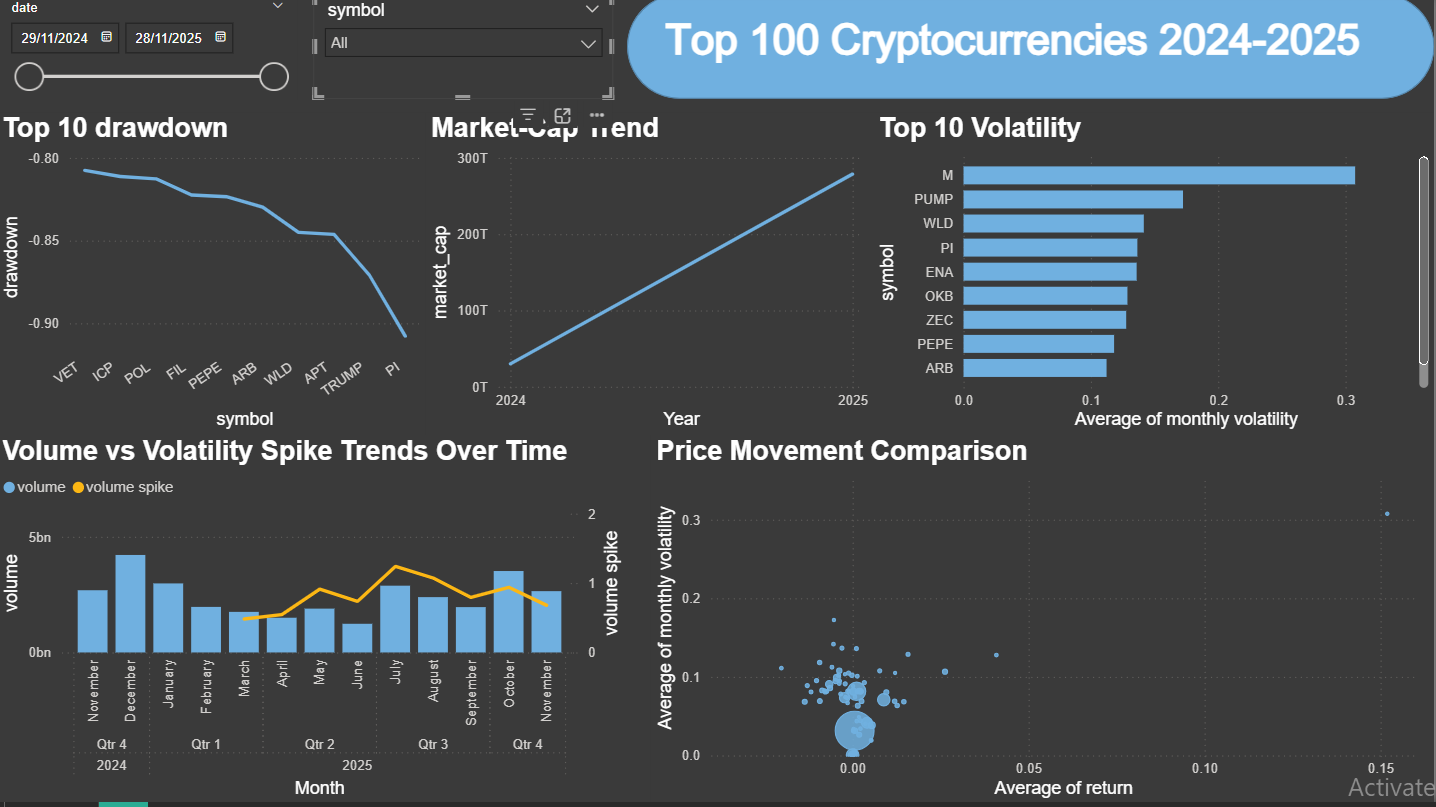

Layout of this report page (visuals, bound fields, positions):
{"tool":"powerbi","page":{"name":"Page 1","canvas":[1280,720],"ordinal":0},"visuals":[{"type":"shape","box":[561,0,719,93.3],"z":0},{"type":"textbox","box":[528.7,8.7,751.4,84.6],"z":1000},{"type":"barChart","title":"Top 10 Volatility ","fields":{"Y":["Avg(crypto_ohlcv_with_cap.volatility_30)"],"Category":["crypto_ohlcv_with_cap.symbol"]},"box":[780.8,105.7,499.5,286.8],"z":2000},{"type":"lineChart","title":"Market-Cap Trend","fields":{"Category":["crypto_ohlcv_with_cap.date.Variation.Date Hierarchy.Year","crypto_ohlcv_with_cap.date.Variation.Date Hierarchy.Quarter","crypto_ohlcv_with_cap.date.Variation.Date Hierarchy.Month","crypto_ohlcv_with_cap.date.Variation.Date Hierarchy.Day"],"Y":["Sum(crypto_ohlcv_with_cap.market_cap)"]},"box":[381.5,105.7,399.3,286.8],"z":3000},{"type":"scatterChart","title":"Price Movement Comparison","fields":{"X":["Avg(crypto_ohlcv_with_cap.ret)"],"Y":["Avg(crypto_ohlcv_with_cap.volatility_30)"],"Category":["crypto_ohlcv_with_cap.symbol"],"Size":["Sum(crypto_ohlcv_with_cap.market_cap)"]},"box":[581.8,392.5,698.5,328],"z":4000},{"type":"lineStackedColumnComboChart","title":"Volume vs Volatility Spike Trends Over Time","fields":{"Category":["crypto_ohlcv_with_cap.date.Variation.Date Hierarchy.Year","crypto_ohlcv_with_cap.date.Variation.Date Hierarchy.Quarter","crypto_ohlcv_with_cap.date.Variation.Date Hierarchy.Month","crypto_ohlcv_with_cap.date.Variation.Date Hierarchy.Day"],"Y2":["Median(crypto_ohlcv_with_cap.vol_spike)"],"Y":["Avg(crypto_ohlcv_with_cap.volume)"]},"box":[0,392.5,561.2,328],"z":5000},{"type":"slicer","fields":{"Values":["crypto_ohlcv_with_cap.date"]},"box":[0,0,267.6,93.3],"z":6000},{"type":"slicer","fields":{"Values":["crypto_ohlcv_with_cap.symbol"]},"box":[281.3,0,267.6,93.3],"z":7000},{"type":"lineChart","title":"Top 10 drawdown","fields":{"Category":["crypto_ohlcv_with_cap.symbol"],"Y":["Min(crypto_ohlcv_with_cap.drawdown)"]},"box":[0,105.7,381.5,286.8],"z":8000}]}

Visuals, with their boxes in screenshot pixels (x1, y1, x2, y2):
shape: box=[632, 19, 1427, 122]
textbox: box=[596, 28, 1427, 122]
"Top 10 Volatility " barChart: box=[875, 136, 1428, 453]
"Market-Cap Trend" lineChart: box=[433, 136, 875, 453]
"Price Movement Comparison" scatterChart: box=[655, 453, 1428, 806]
"Volume vs Volatility Spike Trends Over Time" lineStackedColumnComboChart: box=[11, 453, 632, 806]
slicer - crypto_ohlcv_with_cap.date: box=[11, 19, 307, 122]
slicer - crypto_ohlcv_with_cap.symbol: box=[322, 19, 619, 122]
"Top 10 drawdown" lineChart: box=[11, 136, 433, 453]
